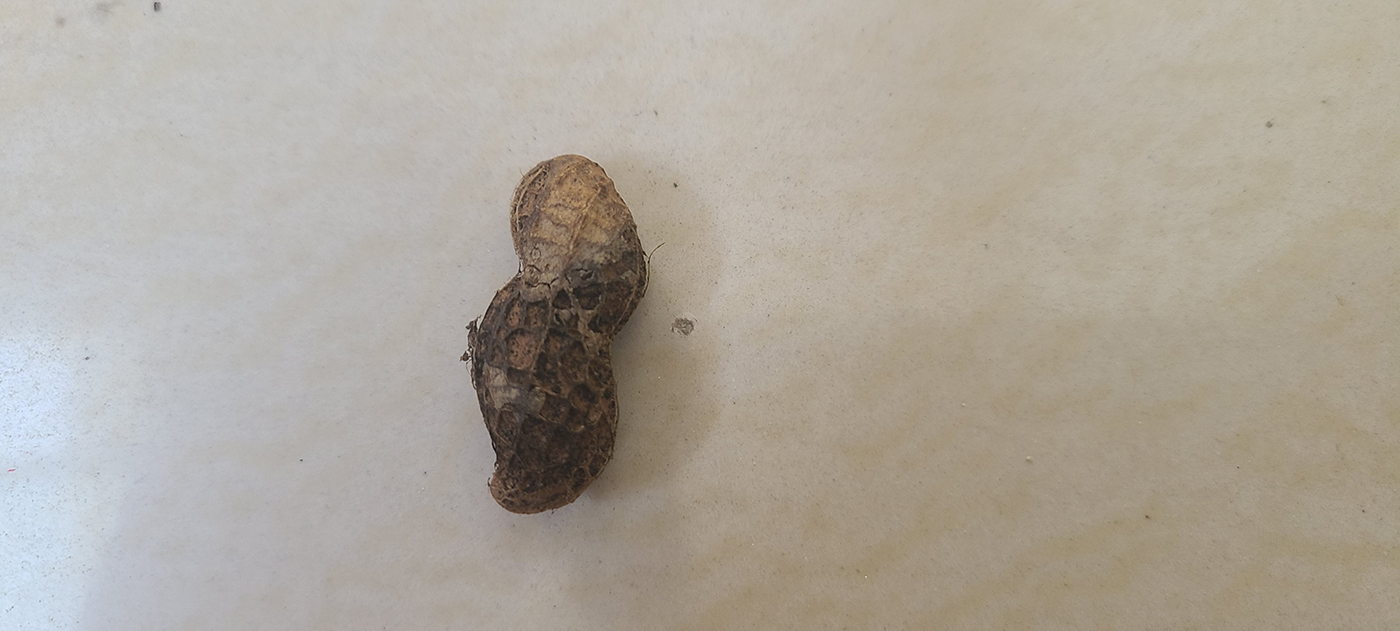l: (462, 152, 656, 515)
